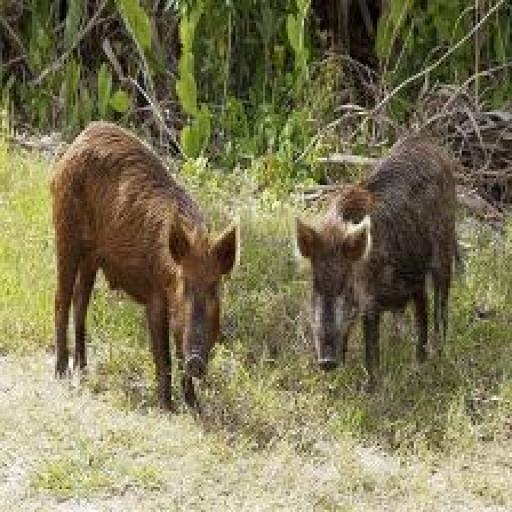Pig: (46, 117, 240, 426), (288, 124, 474, 410)
